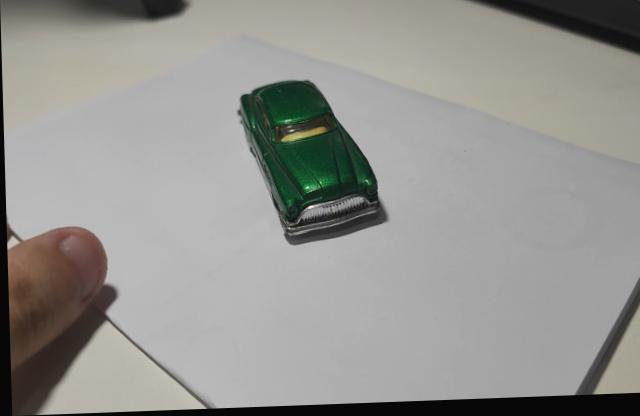06_MASERATI: (236, 83, 388, 250)
